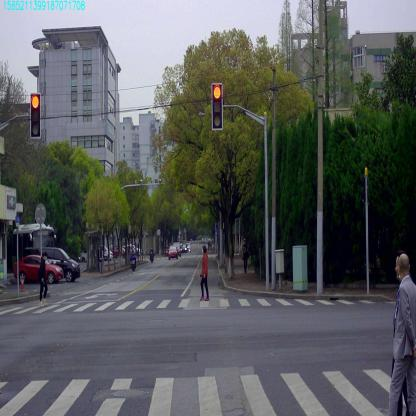traffic-light: (212, 84, 222, 130), (30, 94, 40, 137)
